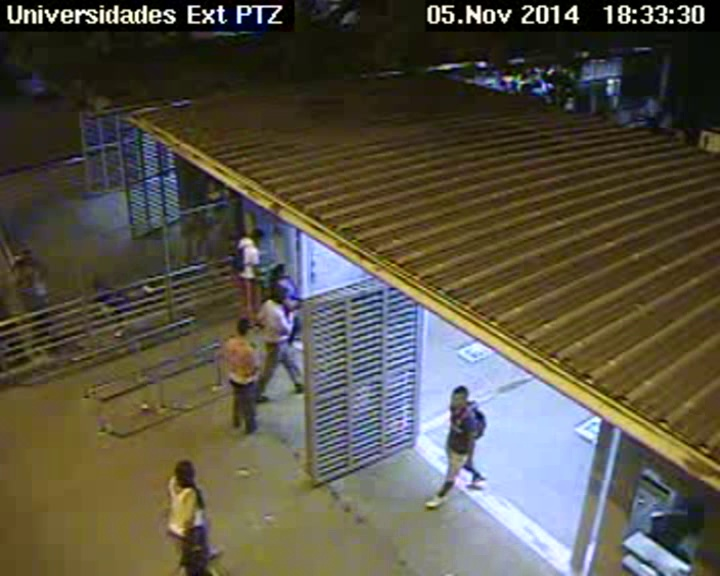person: (173, 460, 196, 485), (449, 385, 470, 410), (234, 318, 253, 339), (270, 288, 288, 306), (250, 226, 266, 243), (273, 262, 288, 278), (92, 276, 105, 288), (21, 250, 32, 262), (30, 259, 41, 269), (195, 205, 205, 215), (206, 183, 216, 192)
